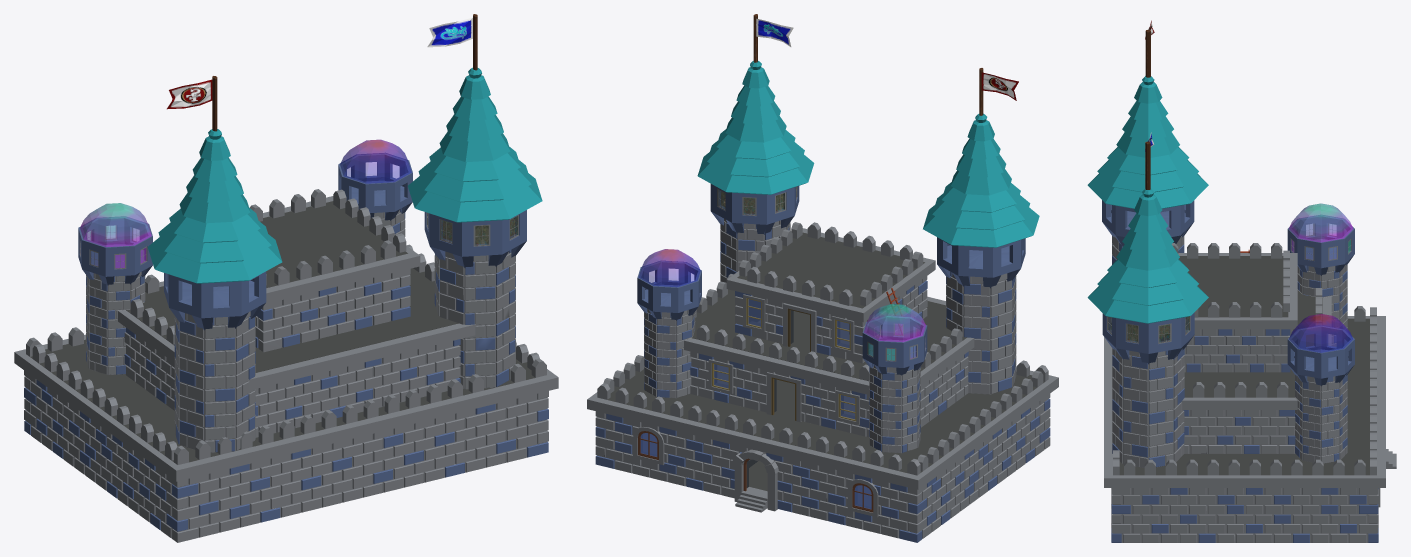
The model's file is castle.glb.
3 renders of one model, left to right at view 1: azimuth 30°, elevation 25°; view 2: azimuth 150°, elevation 25°; view 3: azimuth 270°, elevation 25°, orthographic. The views are drawn at different scales.
Parts seen in each view (by area): view 1: Keep.Level1.Primary.002, Keep.Level2.Primary, Wall.Primary, Castle.Tower.BackLeft.Roof, Roof, Castle.Tower.BackRight.Primary, Primary.001, Keep.Level1.Secondary, Castle.Level4.Floor.001, Level3.Floor, Castle.Level2.Floor.001, Cap.001 (+13 smaller); view 2: Keep.Level1.Primary.002, Keep.Level2.Primary, Wall.Primary, Roof, Castle.Tower.BackLeft.Roof, Castle.Level2.Floor.001, Keep.Level1.Secondary, Castle.Level4.Floor.001, Castle.Tower.BackRight.Primary, Level3.Floor, Castle.Tower.FrontRight.Primary, Castle.Tower.FrontLeft.Primary (+16 smaller); view 3: Keep.Level1.Primary.002, Castle.Tower.BackLeft.Roof, Roof, Wall.Primary, Keep.Level2.Primary, Primary.001, Castle.Level2.Floor.001, Castle.Level4.Floor.001, Castle.Tower.FrontLeft.Primary, Keep.Level1.Secondary, Cap.002, Cap (+11 smaller).
Part boxes in pixels (x1,y1,x2,y2): Keep.Level1.Primary.002: [14, 327, 558, 542]; Keep.Level2.Primary: [117, 244, 477, 437]; Wall.Primary: [250, 189, 420, 352]; Castle.Tower.BackLeft.Roof: [408, 67, 542, 222]; Roof: [147, 129, 282, 283]; Castle.Tower.BackRight.Primary: [174, 311, 255, 452]; Primary.001: [434, 251, 515, 389]; Keep.Level1.Secondary: [24, 380, 548, 531]; Castle.Level4.Floor.001: [260, 201, 407, 287]; Level3.Floor: [126, 268, 458, 372]; Castle.Level2.Floor.001: [30, 339, 535, 462]; Cap.001: [164, 271, 266, 330]; Keep.Level1.Primary.002: [587, 355, 1058, 538]; Keep.Level2.Primary: [683, 274, 974, 437]; Wall.Primary: [726, 222, 935, 363]; Roof: [923, 113, 1039, 247]; Castle.Tower.BackLeft.Roof: [697, 61, 814, 194]; Castle.Level2.Floor.001: [607, 365, 1044, 472]; Keep.Level1.Secondary: [595, 398, 1050, 542]; Castle.Level4.Floor.001: [737, 232, 924, 308]; Castle.Tower.BackRight.Primary: [946, 273, 1016, 394]; Level3.Floor: [692, 289, 966, 381]; Castle.Tower.FrontRight.Primary: [869, 365, 920, 453]; Castle.Tower.FrontLeft.Primary: [644, 309, 695, 398]; Keep.Level1.Primary.002: [1104, 306, 1385, 542]; Castle.Tower.BackLeft.Roof: [1087, 188, 1208, 323]; Roof: [1087, 76, 1208, 208]; Wall.Primary: [1171, 243, 1297, 372]; Keep.Level2.Primary: [1181, 288, 1331, 453]; Primary.001: [1112, 348, 1184, 467]; Castle.Level2.Floor.001: [1119, 318, 1369, 475]; Castle.Level4.Floor.001: [1179, 256, 1288, 317]; Castle.Tower.FrontLeft.Primary: [1295, 375, 1347, 463]; Keep.Level1.Secondary: [1111, 488, 1378, 542]; Cap.002: [1287, 325, 1354, 386]; Cap: [1287, 215, 1354, 275].
Size of the model in its own units: 7.38 by 8.01 by 5.9.
59 materials, 26 textured.
